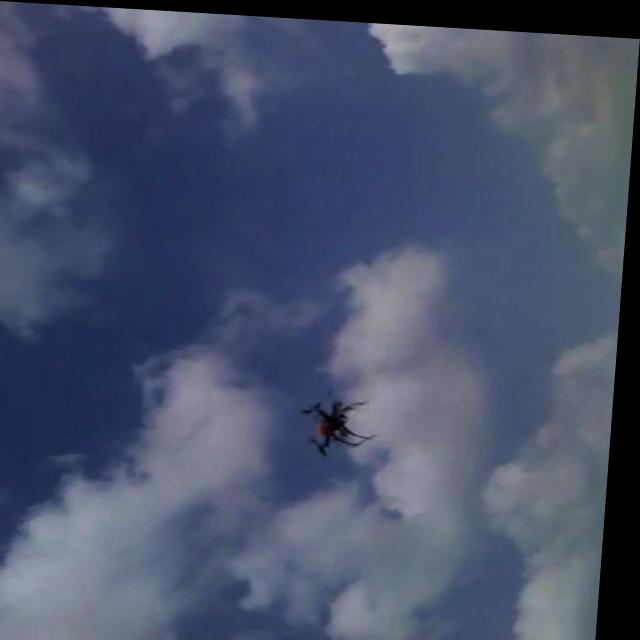drone: (295, 383, 384, 457)
